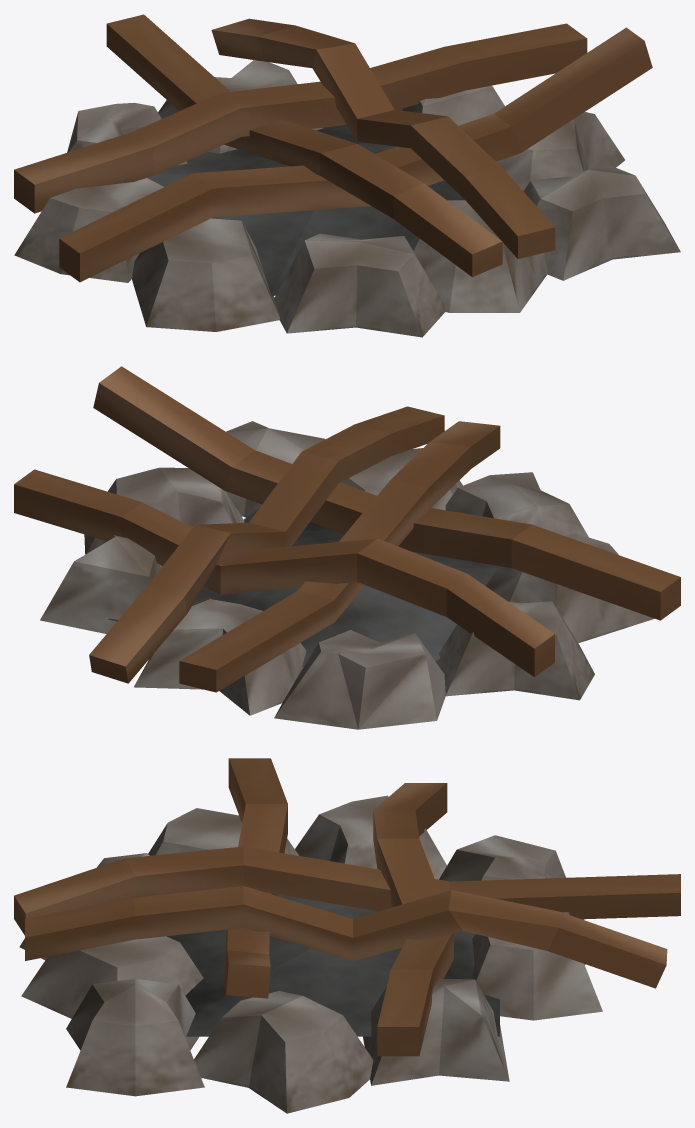
Rendered from Fogueira2.fbx.
3 views of the same model, one above another, from view 1: azimuth 30°, elevation 25°; view 2: azimuth 150°, elevation 25°; view 3: azimuth 270°, elevation 25° (orthographic). The views are drawn at different scales.
Parts seen in each view (by area): view 1: Fogueira2; view 2: Fogueira2; view 3: Fogueira2.
Part boxes in pixels (x1,y1,x2,y2): Fogueira2: [14, 14, 680, 337]; Fogueira2: [14, 366, 680, 729]; Fogueira2: [14, 758, 680, 1113].
Size of the model in its own units: 209 by 49.06 by 203.
